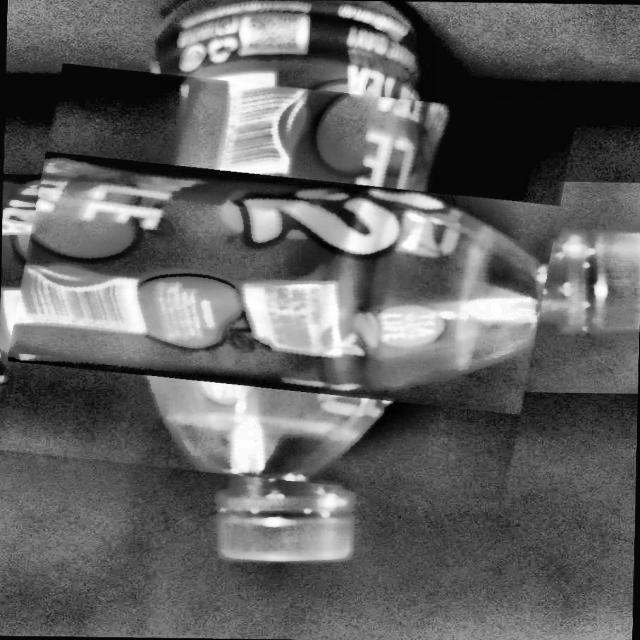Plastic-Bottle: (5, 74, 562, 492)
